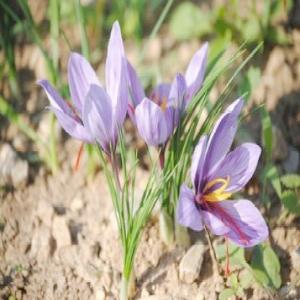Saffron: (174, 97, 268, 248), (36, 22, 130, 158), (120, 42, 210, 163)
